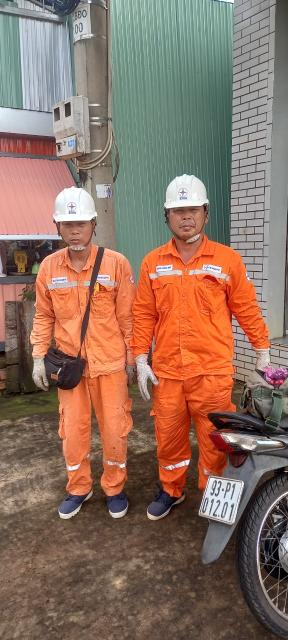gloves: (127, 349, 167, 412), (24, 356, 54, 396), (251, 343, 274, 387)
helmet: (45, 171, 110, 236), (156, 173, 216, 219)
shoes: (131, 478, 187, 525), (89, 483, 140, 528), (55, 471, 93, 528)
